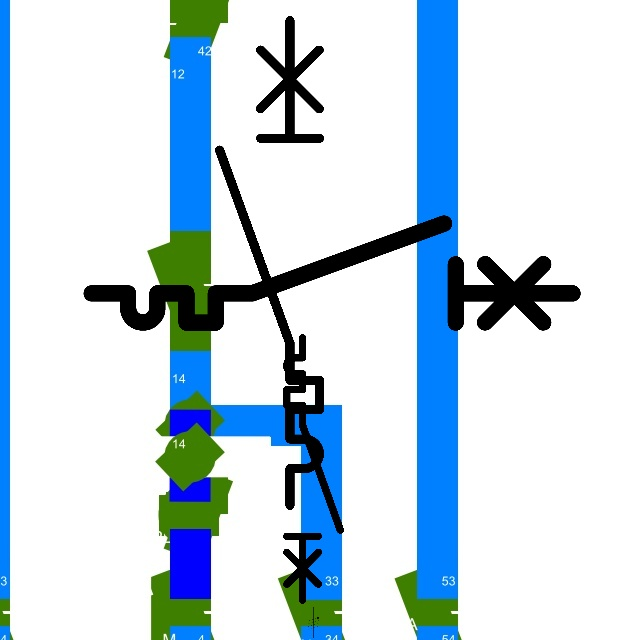interruptor_termomagnetico: (207, 8, 332, 518), (79, 211, 585, 335), (280, 331, 347, 607)
